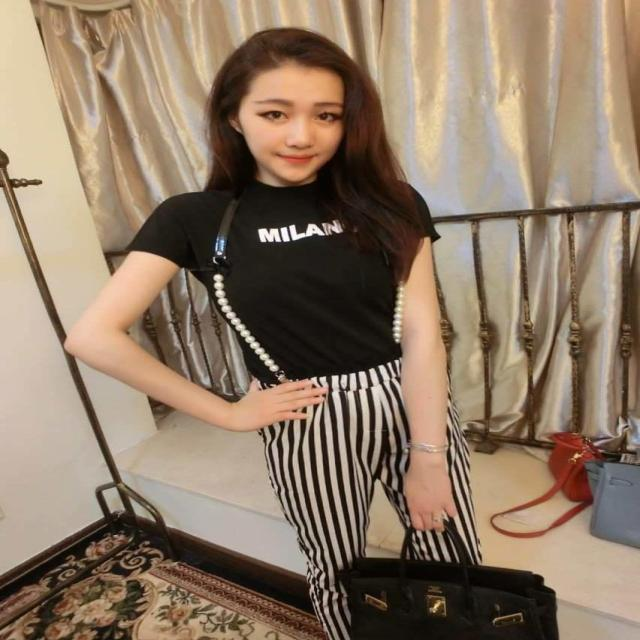short-sleeve-top: (132, 171, 448, 372)
trousers: (229, 395, 507, 611)
